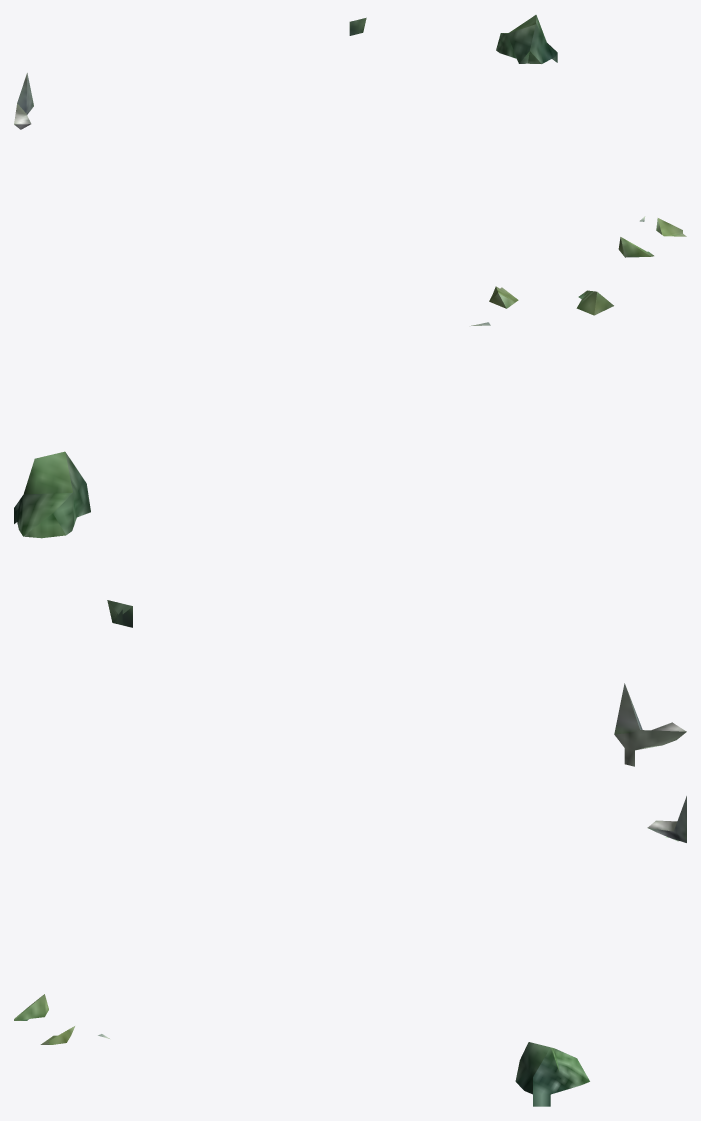
3 renders of one model, top to bottom at view 1: azimuth 30°, elevation 25°; view 2: azimuth 150°, elevation 25°; view 3: azimuth 270°, elevation 25°, orthographic. The views are drawn at different scales.
Visible parts, largest first — view 1: 30436272704370634725_0; view 2: 30436272704370634725_0; view 3: 30436272704370634725_0.
Boxes of the visible parts, x1,y1,x2,y2 form: 30436272704370634725_0: [14, 15, 686, 257]; 30436272704370634725_0: [14, 286, 686, 766]; 30436272704370634725_0: [14, 796, 686, 1106].
Size of the model in its own units: 22.09 by 2.31 by 23.6.
1 material, 1 textured.
